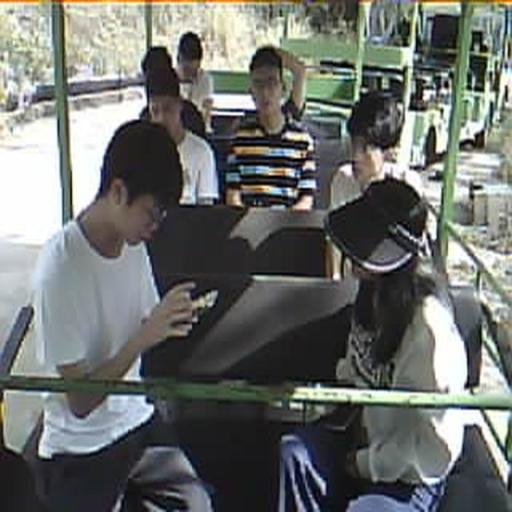persona: (22, 118, 214, 510), (280, 177, 469, 512), (223, 44, 320, 212), (138, 66, 220, 206), (328, 88, 422, 209), (131, 45, 205, 138), (173, 31, 212, 130), (277, 48, 306, 126)
